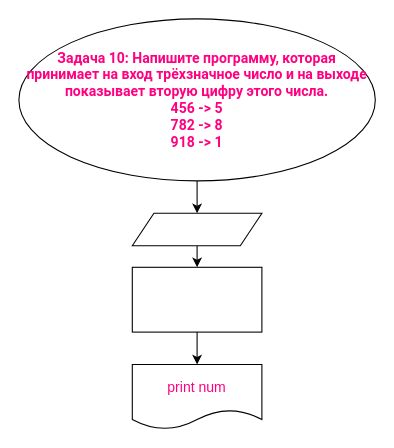
Image size: 394x448. Some labels were removed from this diagram. The shapes that lost their labels are listed below. From the top down, each one's centre as x and y in pixels, then its label:
pixel 196 229: num
pixel 196 299: num = num / 10 num = num % 10
